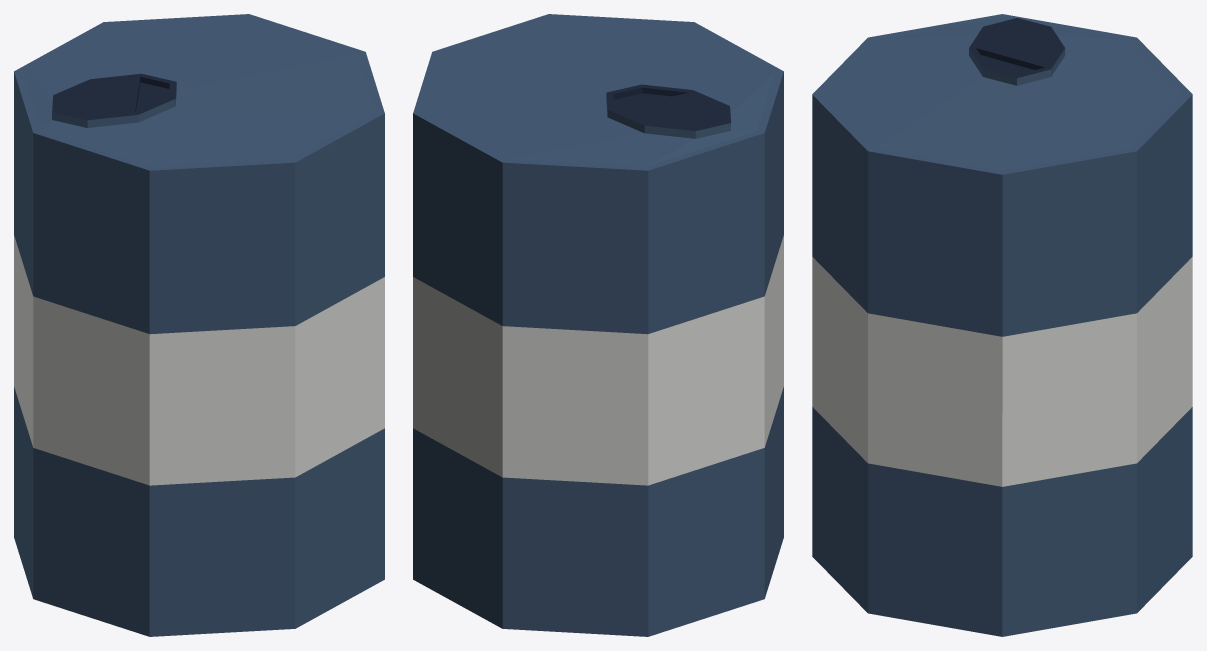
File: can 1.fbx
3 renders of one model, left to right at view 1: azimuth 30°, elevation 25°; view 2: azimuth 150°, elevation 25°; view 3: azimuth 270°, elevation 25°, orthographic.
Visible parts, largest first — view 1: can; view 2: can; view 3: can.
Part boxes in pixels (x1,y1,x2,y2): can: [14, 14, 384, 636]; can: [413, 14, 783, 636]; can: [812, 14, 1192, 636].
Size of the model in its own units: 40 by 54.62 by 40.
